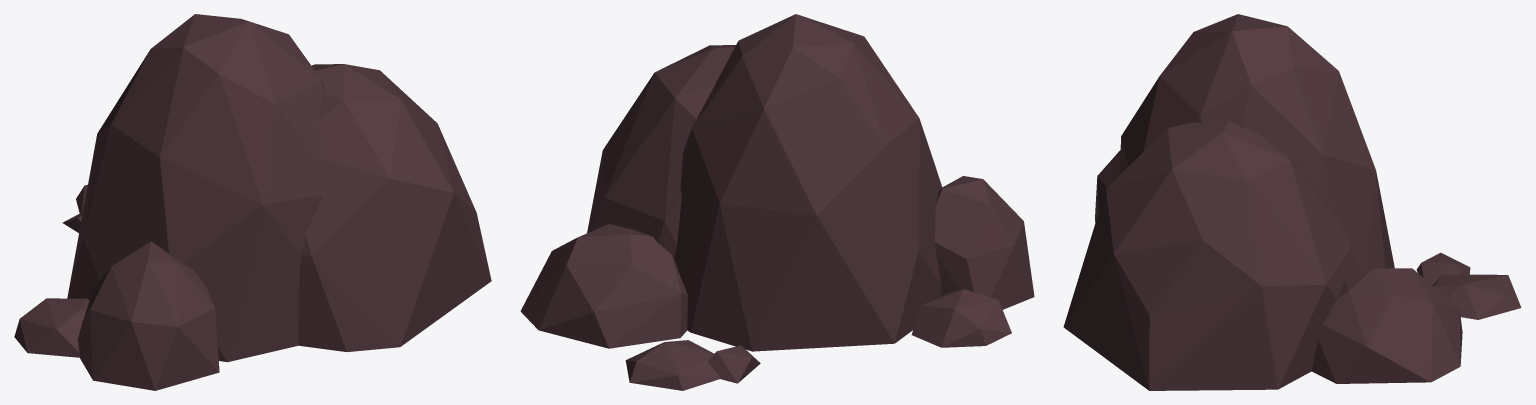
Rendered from SM_EN_Rocks_Large_Lvl3.fbx.
The picture shows the model from 3 angles, left to right: view 1: azimuth 30°, elevation 25°; view 2: azimuth 150°, elevation 25°; view 3: azimuth 270°, elevation 25°; orthographic projection. The views are drawn at different scales.
Parts seen in each view (by area): view 1: Large Rocks_Lvl3; view 2: Large Rocks_Lvl3; view 3: Large Rocks_Lvl3.
Part boxes in pixels (<box>): Large Rocks_Lvl3: <box>14,14,491,390</box>; Large Rocks_Lvl3: <box>520,14,1034,390</box>; Large Rocks_Lvl3: <box>1063,14,1521,390</box>.
Size of the model in its own units: 508 by 496 by 319.
